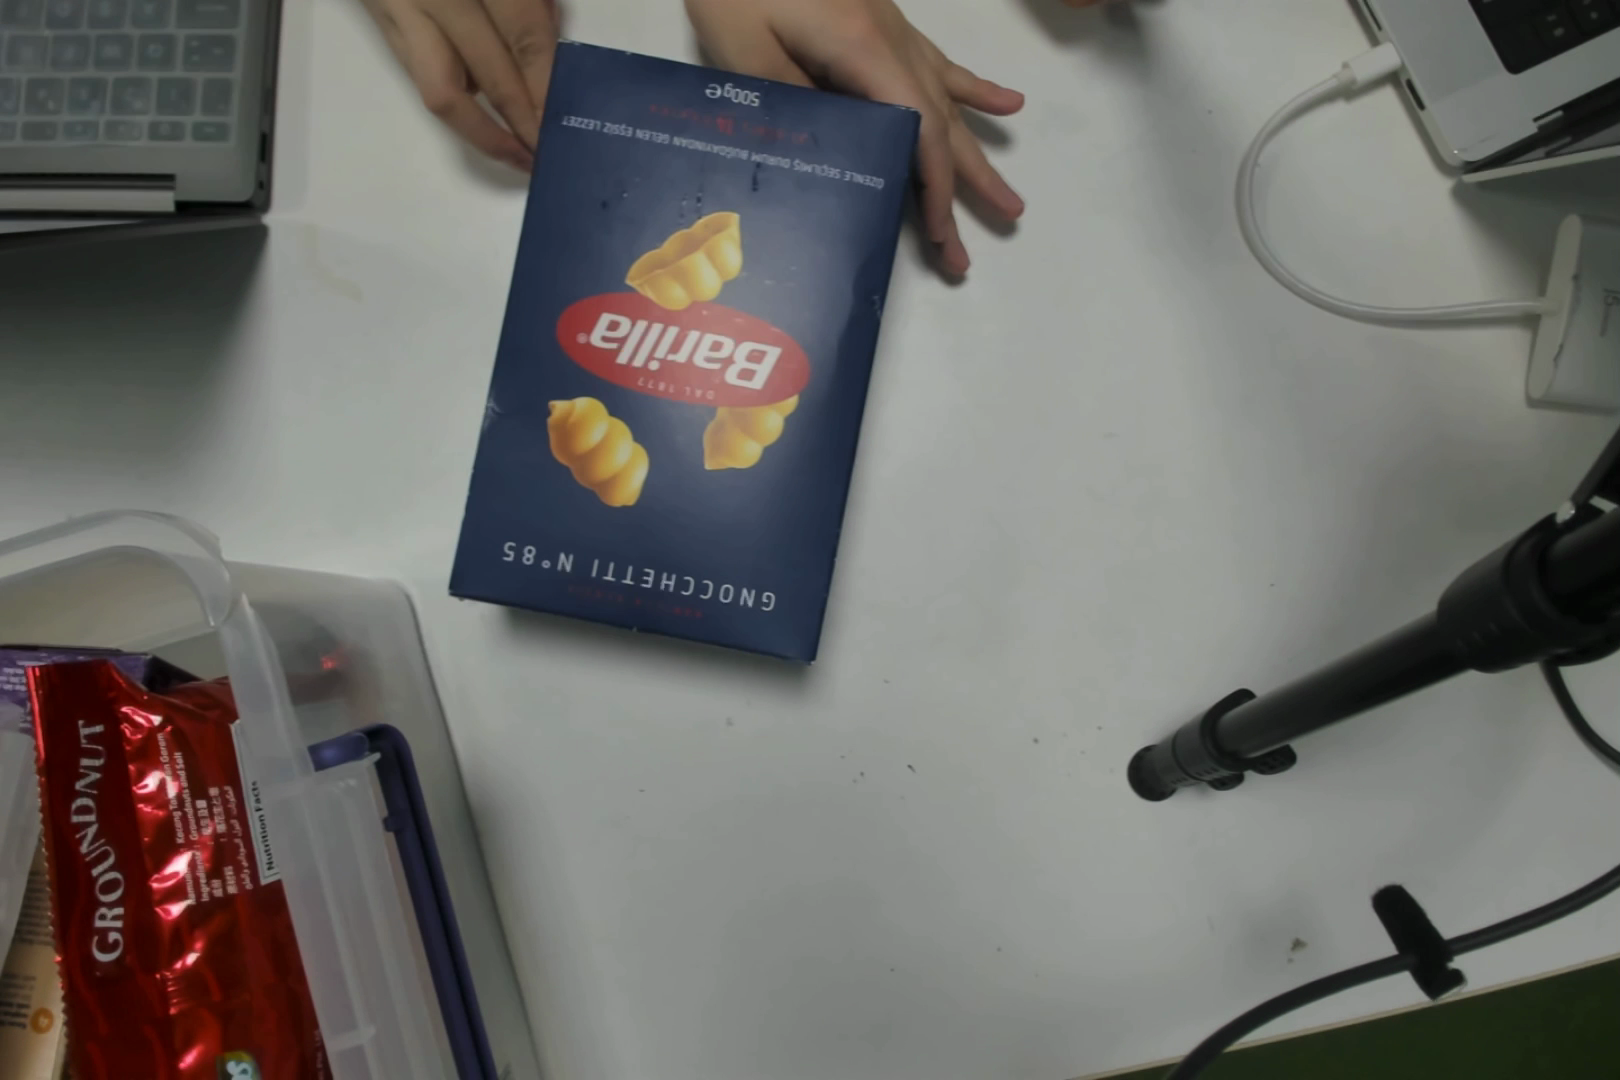Pasta_500-599g_NonHalal_NonHealthy: (526, 67, 847, 636)
